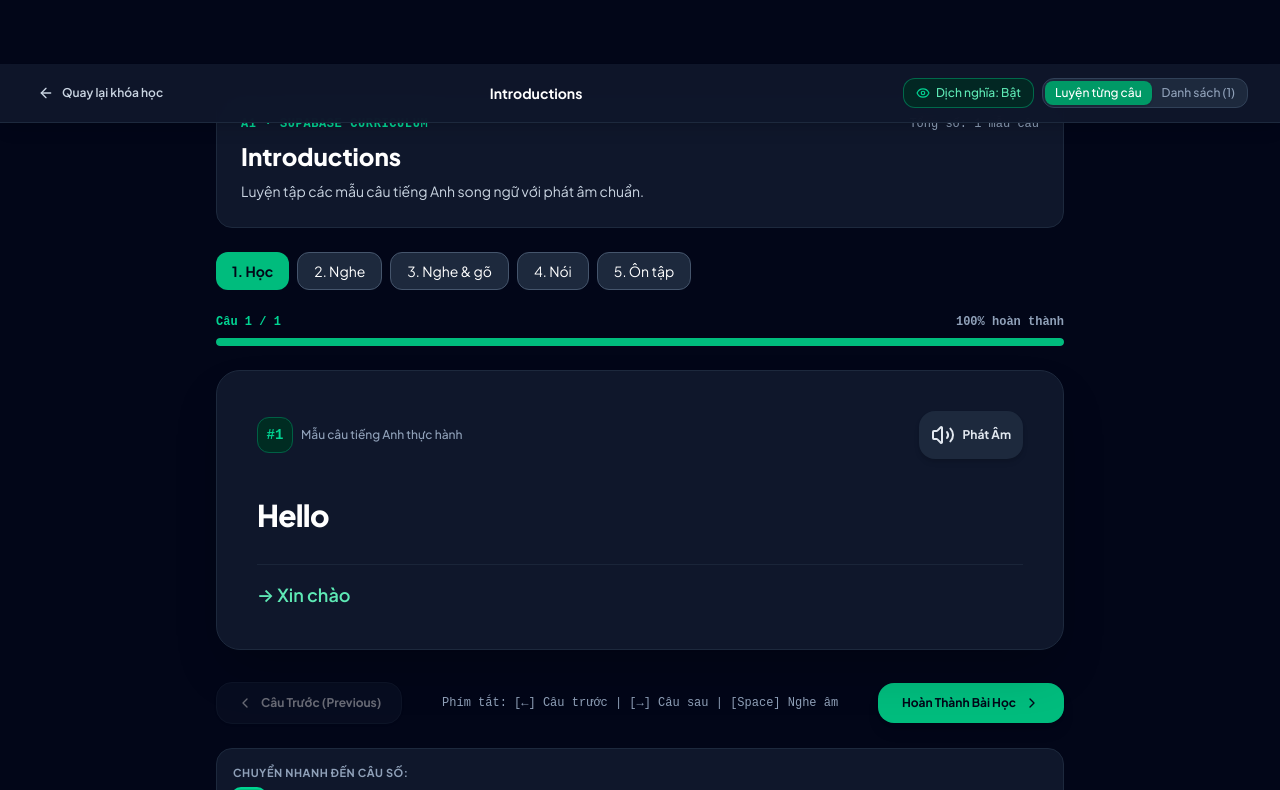
Test: shows save errors and supports retry without claiming success
Click the button "Hoàn Thành Bài Học": point(971, 702) x1=878 y1=682 x2=1064 y2=722
(page scrolled)
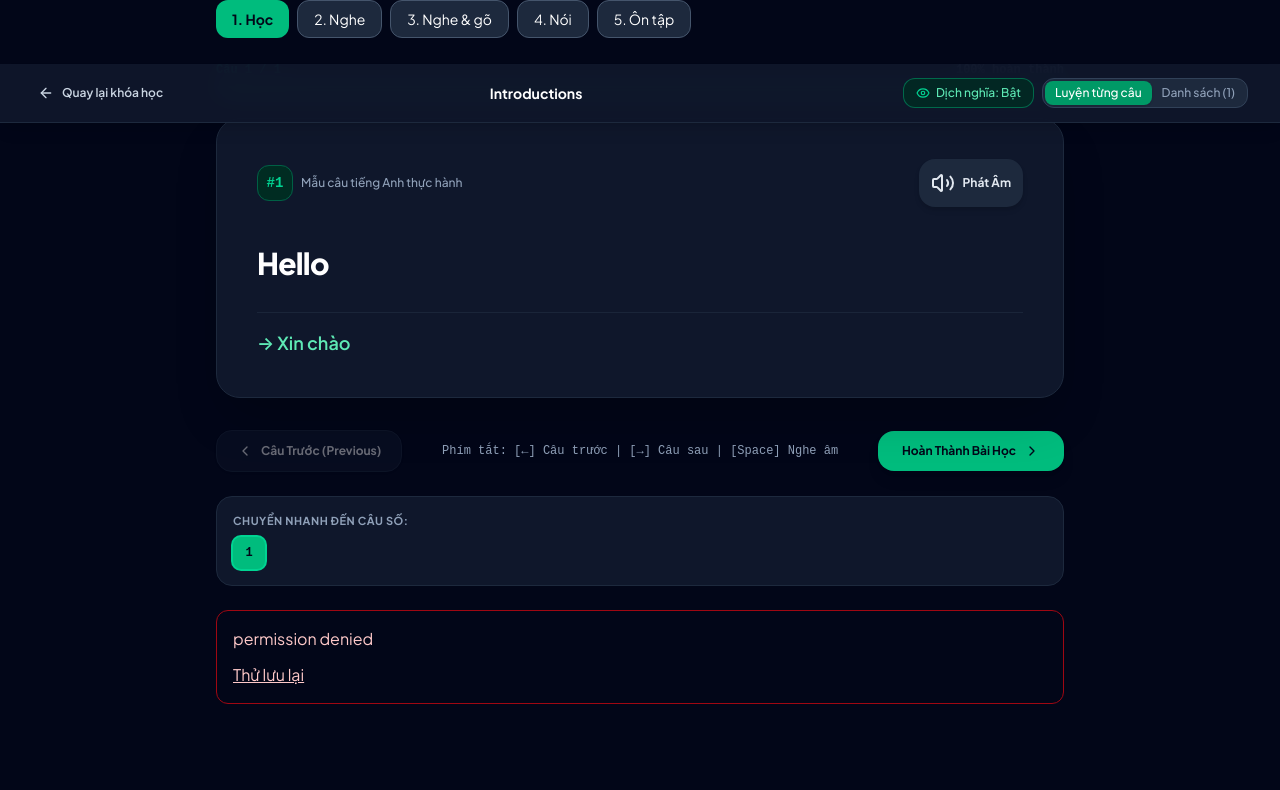
Expected: the text "Chúc mừng!" is not shown
Expected: the message "permission denied Thử lưu lại" is shown, x1=216 y1=610 x2=1064 y2=704
Expected: the button "Thử lưu lại" is shown
Click the button "Thử lưu lại": point(269, 675) x1=233 y1=663 x2=304 y2=687
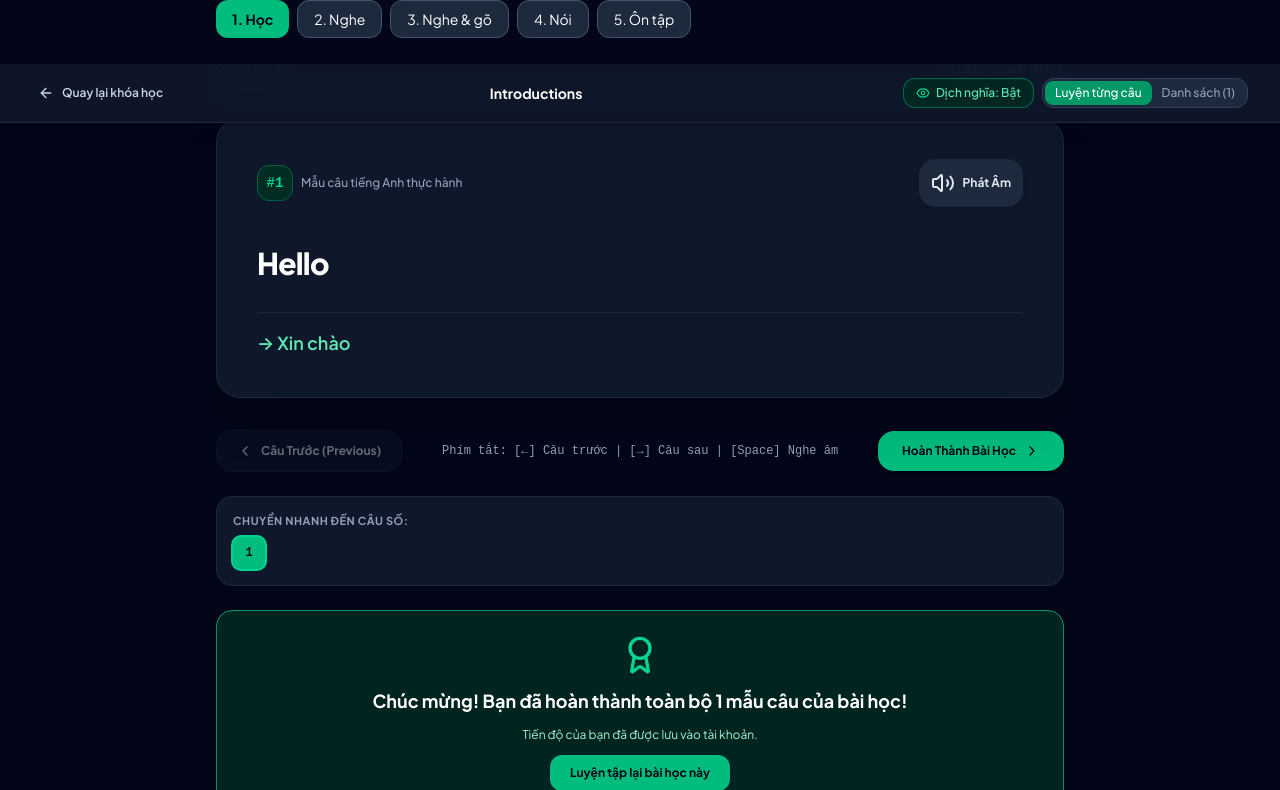
Expected: the message "permission denied Thử lưu lại" is gone
Expected: the text "Chúc mừng!" is shown, x1=372 y1=689 x2=715 y2=712
